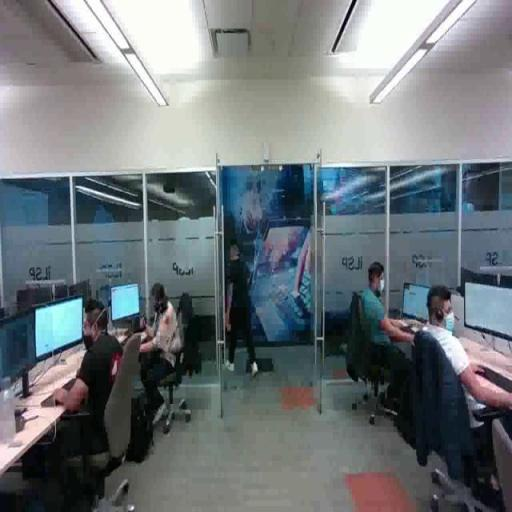person: (226, 243, 264, 385)
